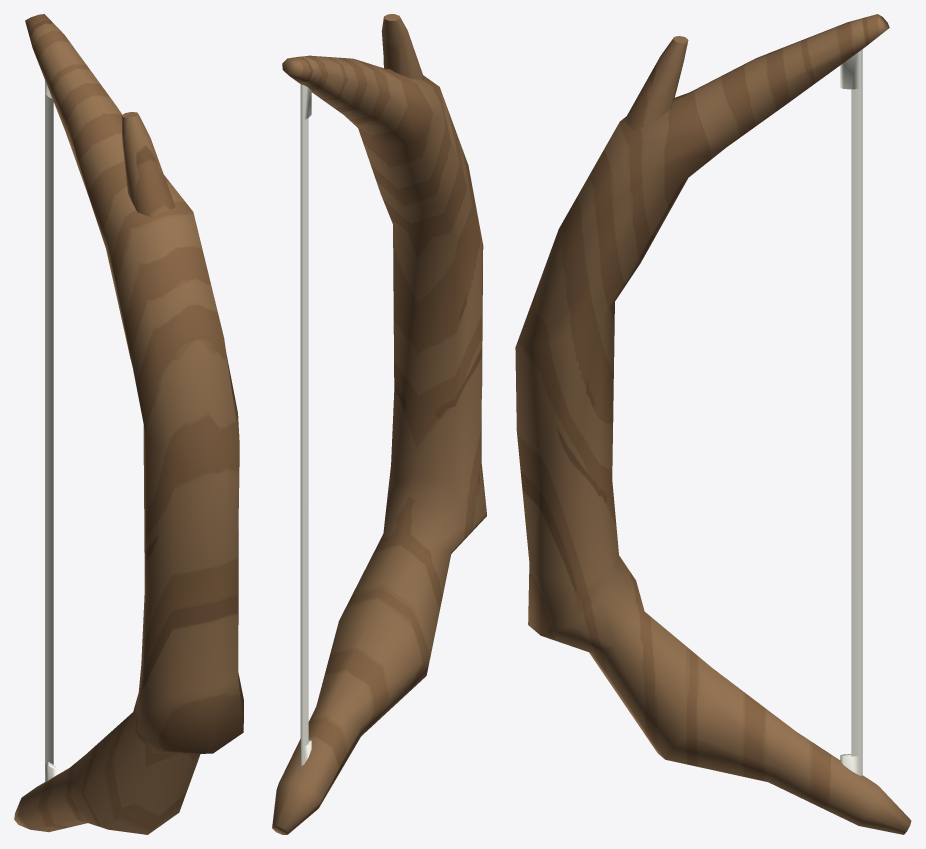
The model's file is BowE.fbx.
3 views of the same model, side by side, from view 1: azimuth 30°, elevation 25°; view 2: azimuth 150°, elevation 25°; view 3: azimuth 270°, elevation 25° (orthographic). The views are drawn at different scales.
Parts seen in each view (by area): view 1: Bow E; view 2: Bow E; view 3: Bow E.
Boxes of the visible parts, box(x1,y1,x2,y2) form: Bow E: box(14, 14, 243, 834); Bow E: box(272, 14, 486, 834); Bow E: box(515, 14, 911, 834).
Bounding box in the file's own units: 0.1691 × 1.26 × 0.5531.
